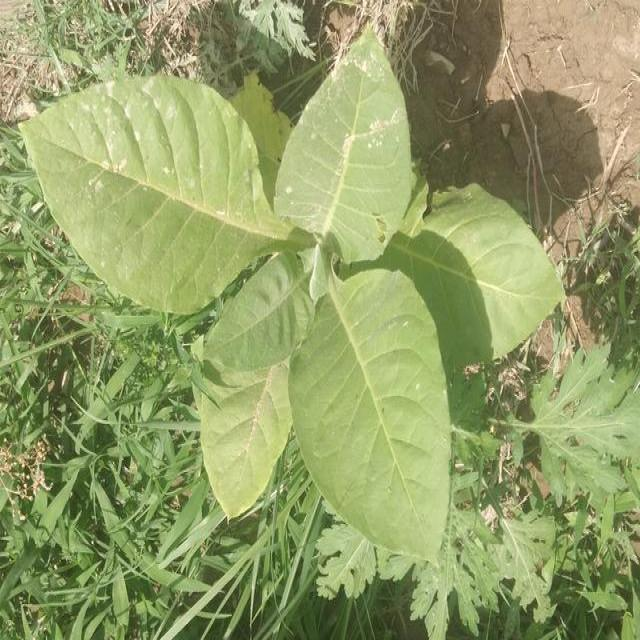crop: (34, 58, 558, 544)
